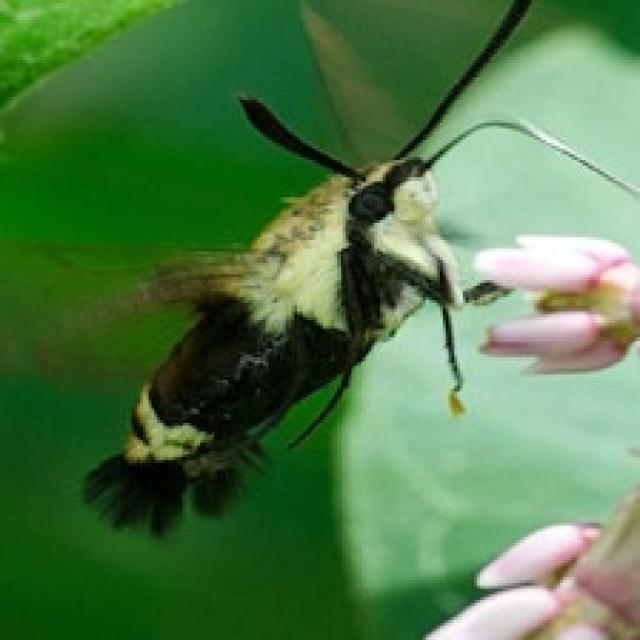butterfly: (0, 0, 637, 537)
